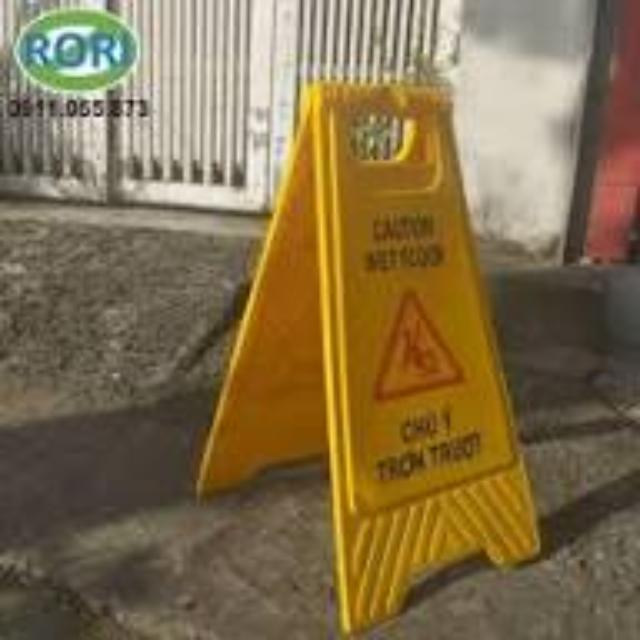slippery_floor: (200, 83, 537, 633)
